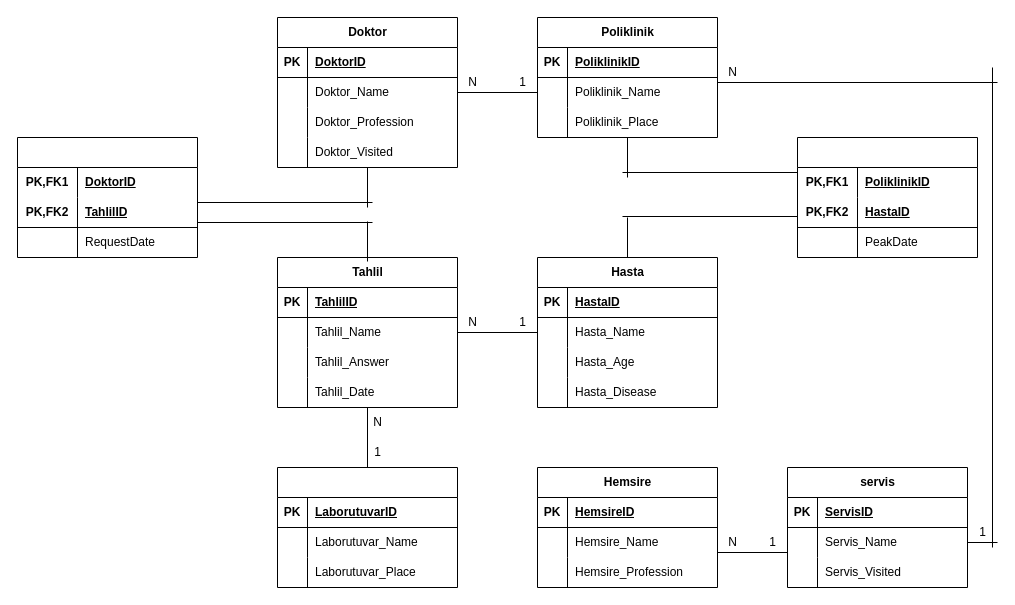
This 1015x605 diagram has some shape labels left out. The shapes that lost their labels are listed below. From the top down, each one's box as (x1, y1, x2, y2) in pixels, then its label:
(16, 136, 198, 258): DoktorTahlil
(796, 136, 978, 258): HastaPoliklinik
(276, 466, 458, 588): Laboratuvar
